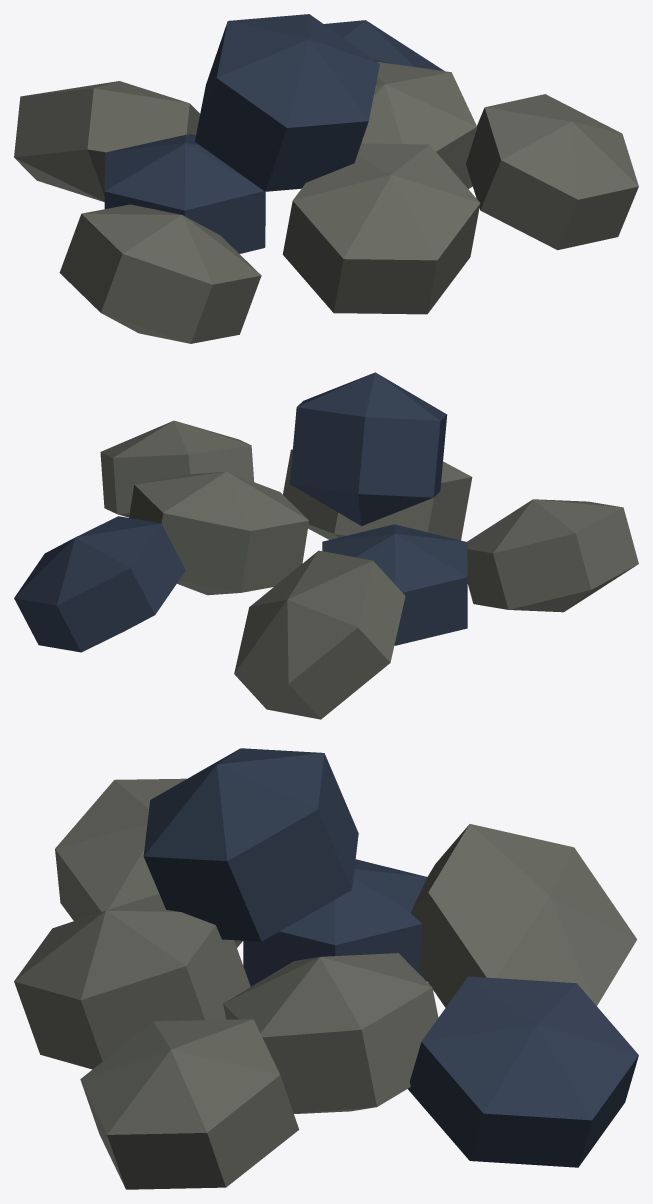
The model's file is ore-pile-3.glb.
3 views of the same model, one above another, from view 1: azimuth 30°, elevation 25°; view 2: azimuth 150°, elevation 25°; view 3: azimuth 270°, elevation 25° (orthographic). The views are drawn at different scales.
Parts seen in each view (by area): view 1: ore_pile; view 2: ore_pile; view 3: ore_pile.
Part boxes in pixels (x1,y1,x2,y2): ore_pile: (14,14,638,343); ore_pile: (14,372,638,719); ore_pile: (14,748,638,1189).
Size of the model in its own units: 0.6514 by 0.2874 by 0.5435.
